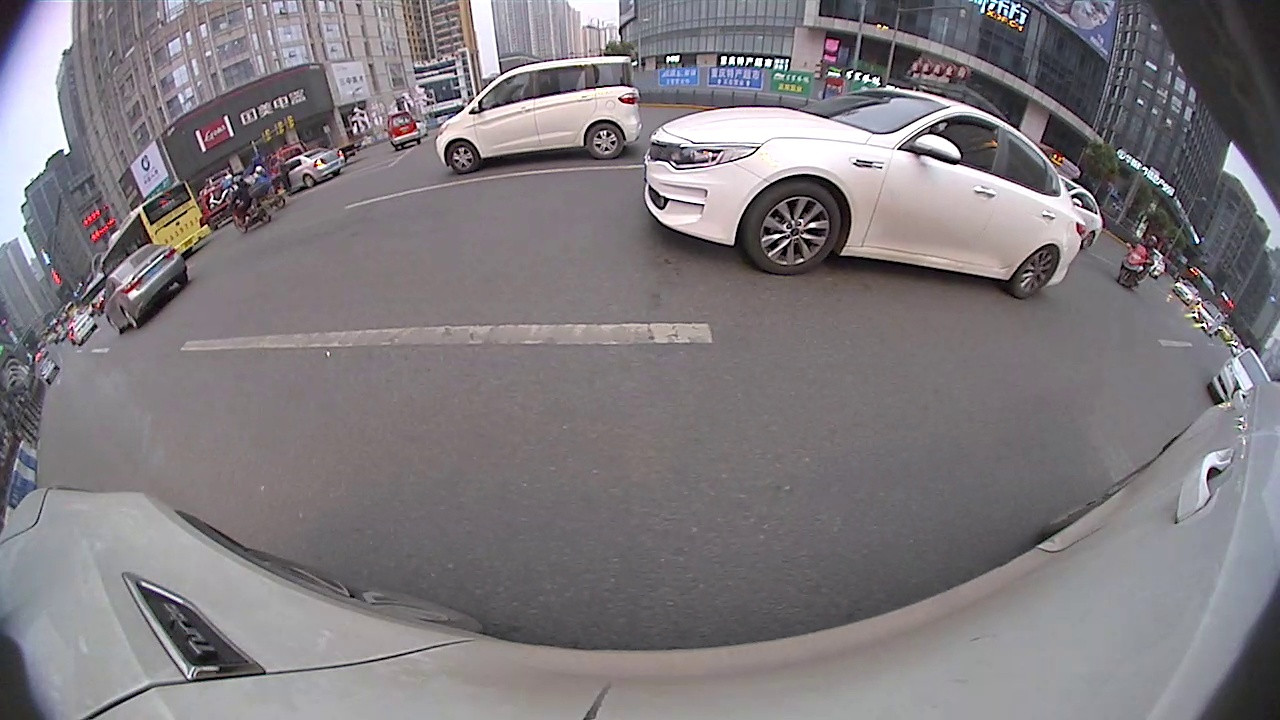bus: (106, 176, 214, 283)
car: (639, 93, 1087, 306), (434, 53, 648, 176), (103, 236, 193, 336), (268, 142, 351, 196)
front: (744, 176, 844, 277), (444, 138, 480, 177)
rear: (1009, 241, 1061, 301), (585, 122, 625, 161), (119, 306, 140, 331), (302, 173, 317, 189)
rider: (224, 173, 277, 231), (1117, 233, 1163, 288)
